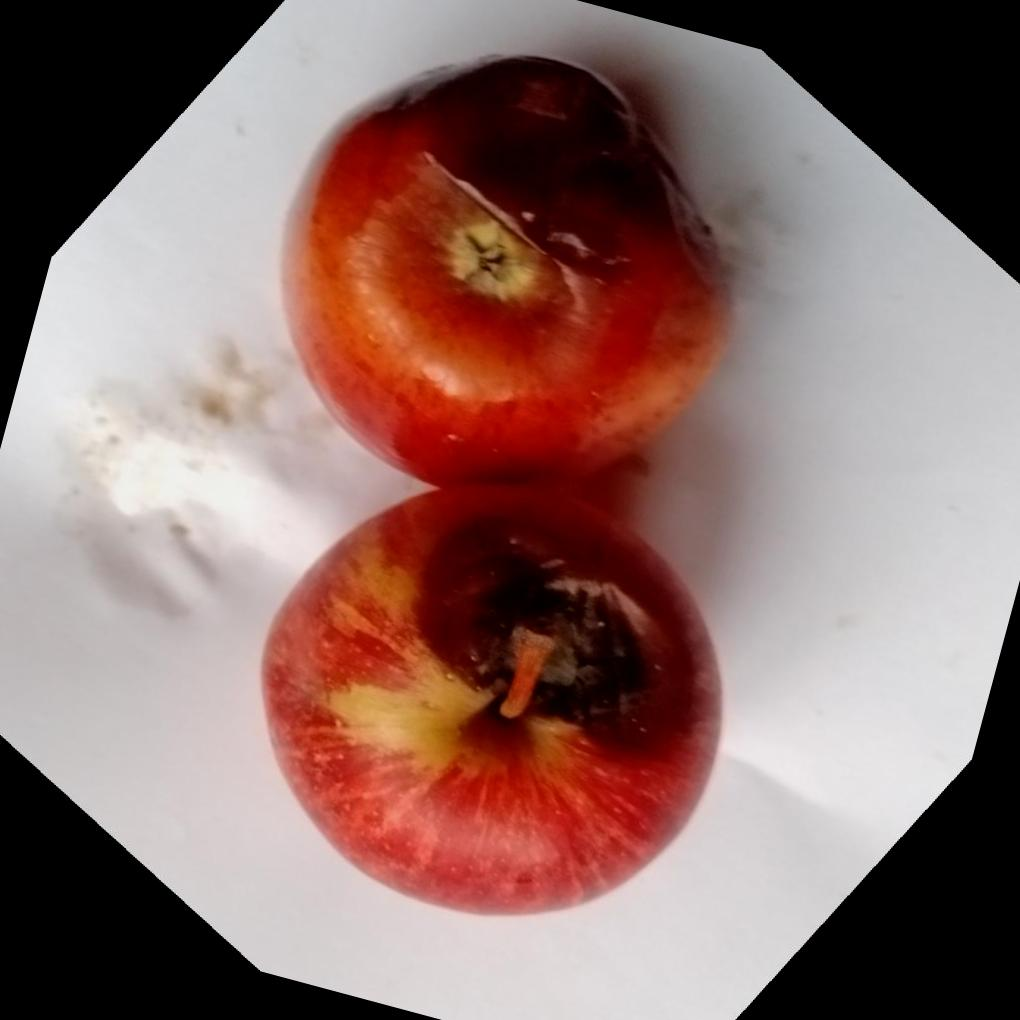FreshOrange: (254, 52, 731, 917)
